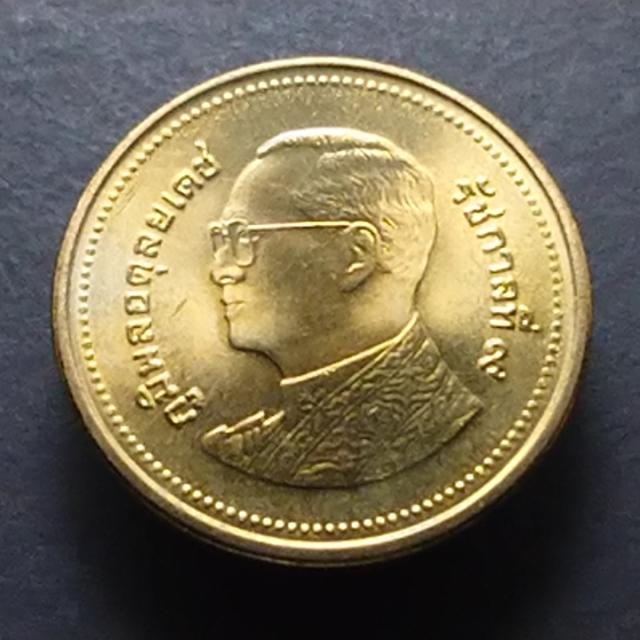2 Bath: (51, 53, 601, 571)
